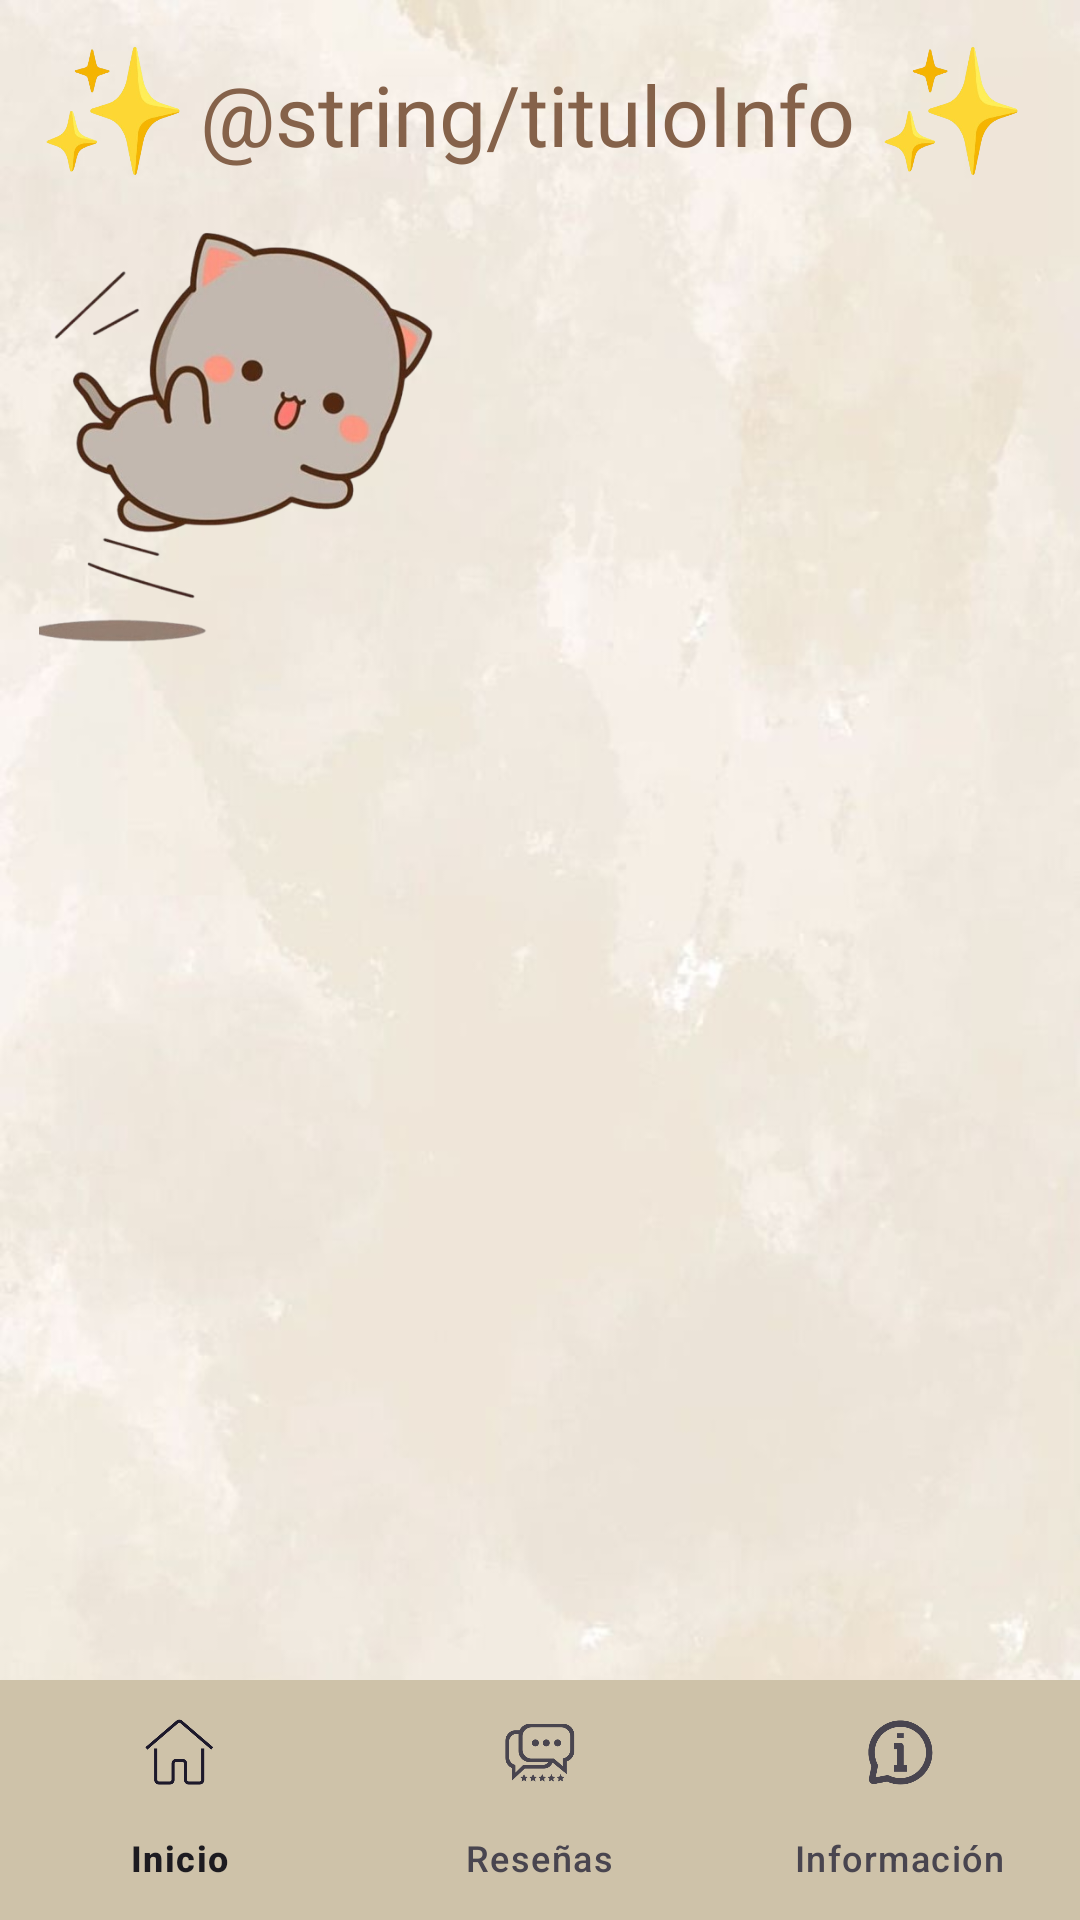

Screen size 1080 x 1920. Icon name, then its box in pixels as {"left": x1, "top": y1, "right": x2, "bottom": y2}:
destellos: {"left": 46, "top": 47, "right": 180, "bottom": 175}, {"left": 885, "top": 47, "right": 1018, "bottom": 175}
